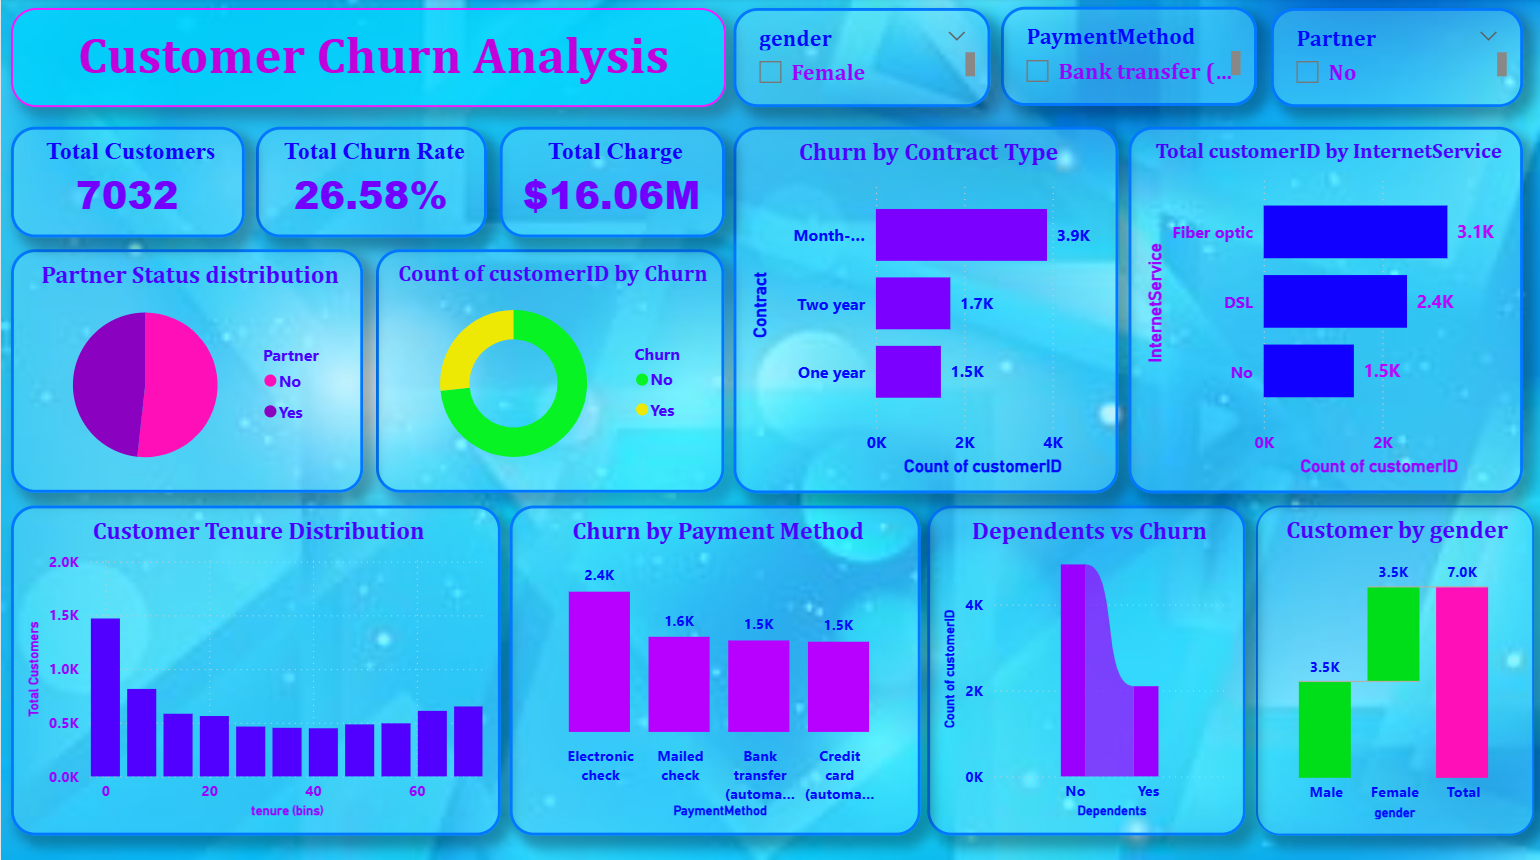

The dashboard page shown, as its layout file describes it:
{"tool":"powerbi","page":{"name":"Page 1","canvas":[1280,720],"ordinal":0},"visuals":[{"type":"card","title":"Total Churn Rate","fields":{"Values":["Telco_Customer_Churn_Dataset.Churn Rate(%)"]},"box":[211.6,107,191.9,91.9],"z":0},{"type":"donutChart","fields":{"Category":["Telco_Customer_Churn_Dataset.Churn"],"Y":["CountNonNull(Telco_Customer_Churn_Dataset.customerID)"]},"box":[311.6,209.3,289.5,202.3],"z":1000},{"type":"waterfallChart","title":" Customer by gender","fields":{"Category":["Telco_Customer_Churn_Dataset.gender"],"Y":["CountNonNull(Telco_Customer_Churn_Dataset.customerID)"]},"box":[1043,422.1,231.4,274.4],"z":2000},{"type":"pieChart","title":"Partner Status distribution","fields":{"Category":["Telco_Customer_Churn_Dataset.Partner"],"Y":["CountNonNull(Telco_Customer_Churn_Dataset.customerID)"]},"box":[8.1,209.3,293,202.3],"z":3000},{"type":"ribbonChart","title":"Dependents vs Churn","fields":{"Category":["Telco_Customer_Churn_Dataset.Dependents"],"Y":["CountNonNull(Telco_Customer_Churn_Dataset.customerID)"]},"box":[769.8,422.1,265.1,274.4],"z":4000},{"type":"clusteredColumnChart","title":"Customer Tenure Distribution","fields":{"Category":["Telco_Customer_Churn_Dataset.tenure (bins)"],"Y":["CountNonNull(Telco_Customer_Churn_Dataset.customerID)"]},"box":[8.1,422.1,407,274.4],"z":5000},{"type":"barChart","title":"Churn by Contract Type","fields":{"Category":["Telco_Customer_Churn_Dataset.Contract"],"Y":["CountNonNull(Telco_Customer_Churn_Dataset.customerID)"]},"box":[609.3,107,319.8,304.7],"z":6000},{"type":"columnChart","title":"Churn by Payment Method","fields":{"Category":["Telco_Customer_Churn_Dataset.PaymentMethod"],"Y":["CountNonNull(Telco_Customer_Churn_Dataset.customerID)"]},"box":[423.3,422.1,341.9,274.4],"z":7000},{"type":"barChart","title":"Total customerID by InternetService","fields":{"Category":["Telco_Customer_Churn_Dataset.InternetService"],"Y":["CountNonNull(Telco_Customer_Churn_Dataset.customerID)"]},"box":[937.2,107,327.9,304.7],"z":8000},{"type":"card","title":"Total Customers","fields":{"Values":["Count(Telco_Customer_Churn_Dataset.customerID)"]},"box":[8.1,107,194.2,91.9],"z":9000},{"type":"card","title":"Total Charge","fields":{"Values":["Sum(Telco_Customer_Churn_Dataset.TotalCharges)"]},"box":[415.1,107,187.2,91.9],"z":10000},{"type":"slicer","fields":{"Values":["Telco_Customer_Churn_Dataset.PaymentMethod"]},"box":[831.4,7,212.8,82.6],"z":11000},{"type":"slicer","fields":{"Values":["Telco_Customer_Churn_Dataset.Partner"]},"box":[1055.6,8.4,209.2,82],"z":12000},{"type":"textbox","box":[8.1,8.1,594.2,82.6],"z":13000},{"type":"slicer","fields":{"Values":["Telco_Customer_Churn_Dataset.gender"]},"box":[609.3,8.1,214,82.6],"z":14000}]}

Visuals, with their boxes in screenshot pixels (x1, y1, x2, y2), scaled from the page's 1280x720 canvas onto the 1540x860 screenshot:
"Total Churn Rate" card: 255, 128, 485, 238
donutChart - Telco_Customer_Churn_Dataset.Churn x CountNonNull(Telco_Customer_Churn_Dataset.customerID): 375, 250, 723, 492
" Customer by gender" waterfallChart: 1255, 504, 1533, 832
"Partner Status distribution" pieChart: 10, 250, 362, 492
"Dependents vs Churn" ribbonChart: 926, 504, 1245, 832
"Customer Tenure Distribution" clusteredColumnChart: 10, 504, 499, 832
"Churn by Contract Type" barChart: 733, 128, 1118, 492
"Churn by Payment Method" columnChart: 509, 504, 921, 832
"Total customerID by InternetService" barChart: 1128, 128, 1522, 492
"Total Customers" card: 10, 128, 243, 238
"Total Charge" card: 499, 128, 725, 238
slicer - Telco_Customer_Churn_Dataset.PaymentMethod: 1000, 8, 1256, 107
slicer - Telco_Customer_Churn_Dataset.Partner: 1270, 10, 1522, 108
textbox: 10, 10, 725, 108
slicer - Telco_Customer_Churn_Dataset.gender: 733, 10, 991, 108
